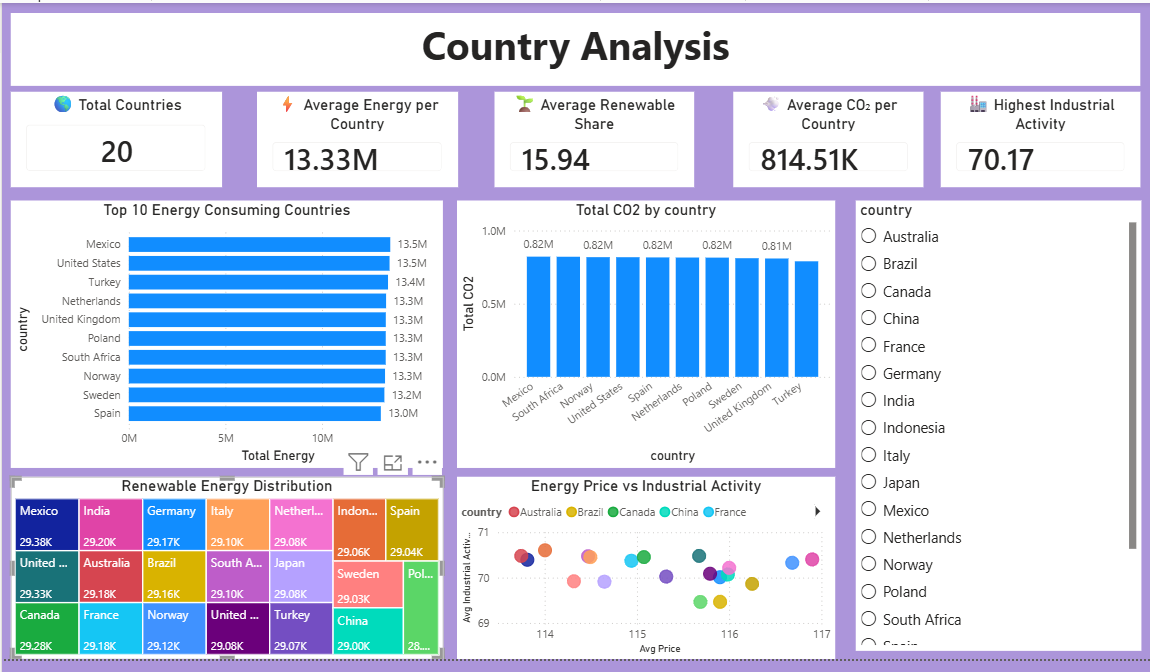

The dashboard page shown, as its layout file describes it:
{"tool":"powerbi","page":{"name":"Country Analysis","canvas":[1280,720],"ordinal":1},"visuals":[{"type":"textbox","box":[10,11.5,1240.2,80.2],"z":0},{"type":"cardVisual","title":"🌱 Average Renewable Share","fields":{"Data":["Avg(global_climate_energy_2020_2024.renewable_share)"]},"box":[541.3,97.4,219.1,104.5],"z":1000},{"type":"cardVisual","title":"⚡ Average Energy per Country","fields":{"Data":["global_climate_energy_2020_2024.Avg Energy Per Country"]},"box":[279.3,97.4,220.5,104.5],"z":2000},{"type":"cardVisual","title":"💨 Average CO₂ per Country","fields":{"Data":["global_climate_energy_2020_2024.Avg CO2 Per Country"]},"box":[803.4,97.4,209.1,104.5],"z":3000},{"type":"cardVisual","title":"🏭 Highest Industrial Activity","fields":{"Data":["global_climate_energy_2020_2024.Avg Industrial Activity"]},"box":[1031.1,97.4,219.1,104.5],"z":4000},{"type":"cardVisual","title":"🌎 Total Countries","fields":{"Data":["Count(global_climate_energy_2020_2024.country)"]},"box":[10,97.4,232,104.5],"z":5000},{"type":"barChart","title":"Top 10 Energy Consuming Countries","fields":{"Category":["global_climate_energy_2020_2024.country"],"Y":["global_climate_energy_2020_2024.Total Energy"]},"box":[0,216.2,484,293.6],"z":6000},{"type":"columnChart","fields":{"Category":["global_climate_energy_2020_2024.country"],"Y":["global_climate_energy_2020_2024.Total CO2"]},"box":[499.8,216.2,415.3,293.6],"z":7000},{"type":"treemap","title":"Renewable Energy Distribution","fields":{"Values":["Sum(global_climate_energy_2020_2024.renewable_share)"],"Group":["global_climate_energy_2020_2024.country"]},"box":[0,519.8,484,200.5],"z":8000},{"type":"scatterChart","title":"Energy Price vs Industrial Activity","fields":{"X":["global_climate_energy_2020_2024.Avg Price"],"Y":["global_climate_energy_2020_2024.Avg Industrial Activity"],"Size":["global_climate_energy_2020_2024.Total Energy"],"Series":["global_climate_energy_2020_2024.country"]},"box":[499.8,519.8,415.3,200.5],"z":9000},{"type":"listSlicer","fields":{"Values":["global_climate_energy_2020_2024.country"]},"box":[936.6,216.2,313.6,494.1],"z":10000}]}

Visuals, with their boxes on the page's 1280x720 design canvas (x1, y1, x2, y2). These are canvas units, not pixel positions in the 1150x672 screenshot, which may show the page scaled, cropped or inside an application window:
textbox: rect(10, 12, 1250, 92)
"🌱 Average Renewable Share" cardVisual: rect(541, 97, 760, 202)
"⚡ Average Energy per Country" cardVisual: rect(279, 97, 500, 202)
"💨 Average CO₂ per Country" cardVisual: rect(803, 97, 1012, 202)
"🏭 Highest Industrial Activity" cardVisual: rect(1031, 97, 1250, 202)
"🌎 Total Countries" cardVisual: rect(10, 97, 242, 202)
"Top 10 Energy Consuming Countries" barChart: rect(0, 216, 484, 510)
columnChart - global_climate_energy_2020_2024.country x global_climate_energy_2020_2024.Total CO2: rect(500, 216, 915, 510)
"Renewable Energy Distribution" treemap: rect(0, 520, 484, 720)
"Energy Price vs Industrial Activity" scatterChart: rect(500, 520, 915, 720)
listSlicer - global_climate_energy_2020_2024.country: rect(937, 216, 1250, 710)
